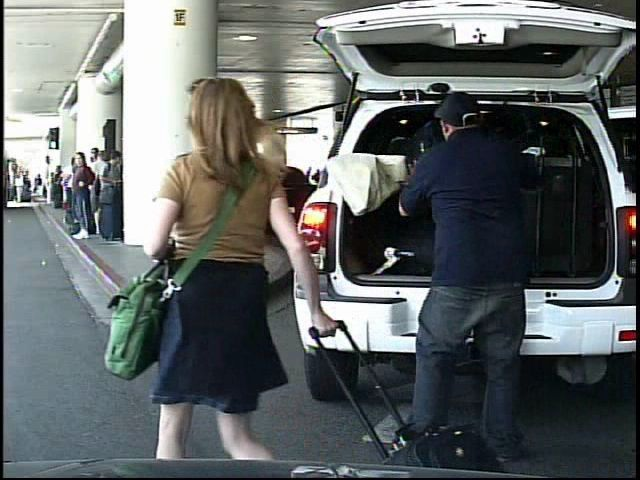person: (144, 70, 318, 462), (385, 82, 546, 443), (302, 166, 314, 193), (15, 174, 25, 204), (35, 173, 46, 200)
